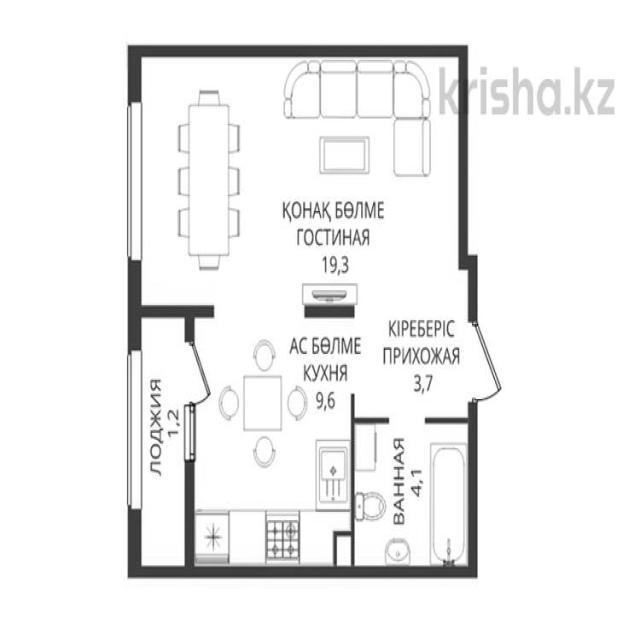balcony: (134, 318, 189, 573)
bathroom: (353, 421, 475, 574)
hallway: (358, 287, 500, 417)
studio: (139, 51, 463, 571)
